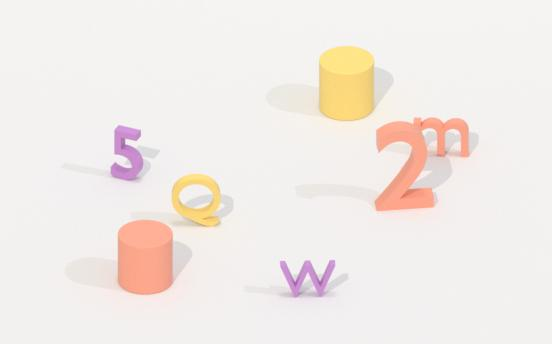2: (372, 117, 436, 216)
5: (109, 124, 145, 181)
m: (410, 108, 472, 164)
q: (168, 169, 223, 235)
tru: (317, 44, 378, 128), (115, 218, 177, 297)
w: (278, 259, 337, 299)
